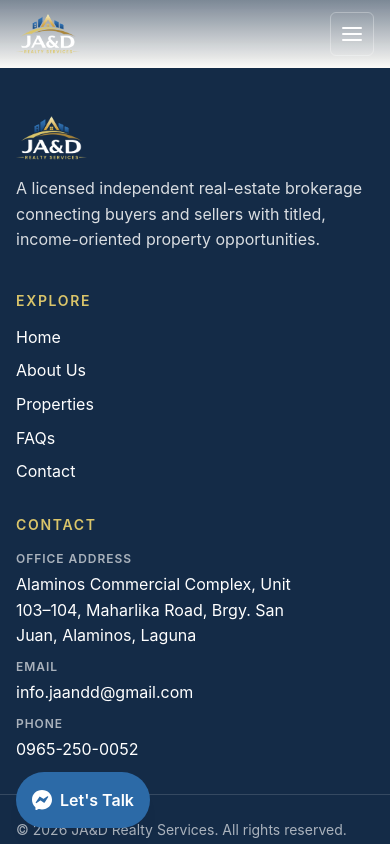
Test: PublicLayout › closes the mobile menu after selecting a navigation item
Click the button named "Open navigation" at {"x": 352, "y": 34}, box [330,12,374,56]
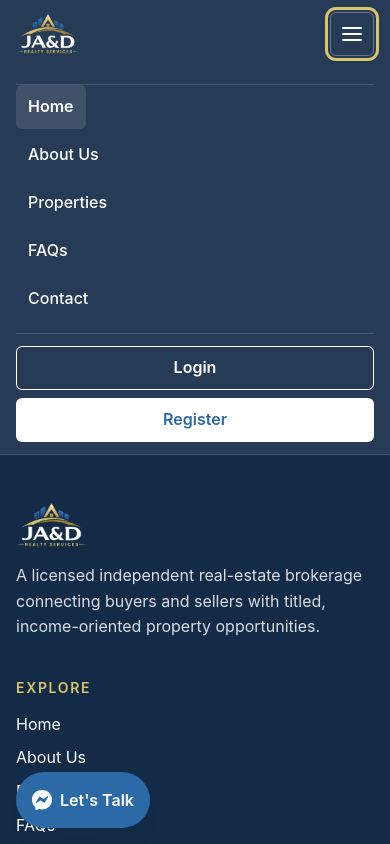
Click the 1st link "About Us" at {"x": 63, "y": 154}, box [28,144,99,164]
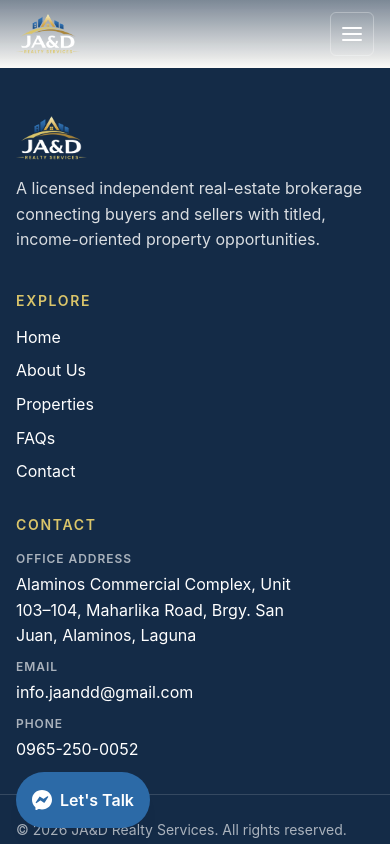
Now the button named "Open navigation" is collapsed, box [330,12,374,56]
